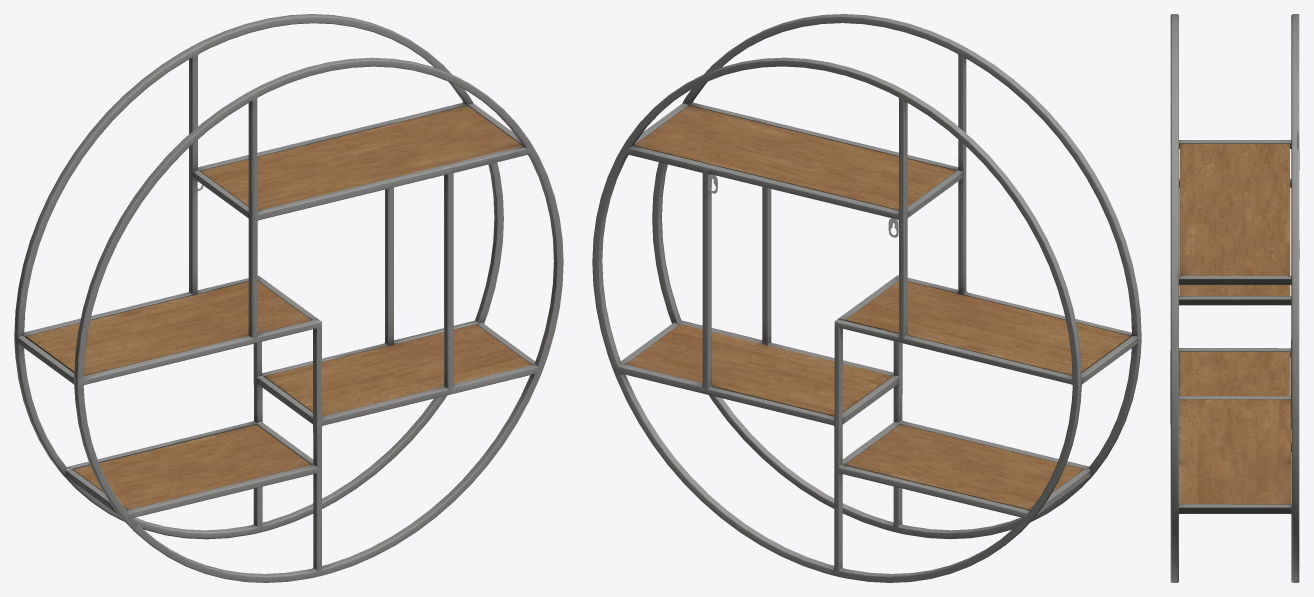
The model's file is abo-B07HSGPG2D.glb.
The picture shows the model from 3 angles, left to right: view 1: azimuth 30°, elevation 25°; view 2: azimuth 150°, elevation 25°; view 3: azimuth 270°, elevation 25°; orthographic projection.
Size of the model in its own units: 0.888 by 0.888 by 0.202.
1 material, 1 textured.
